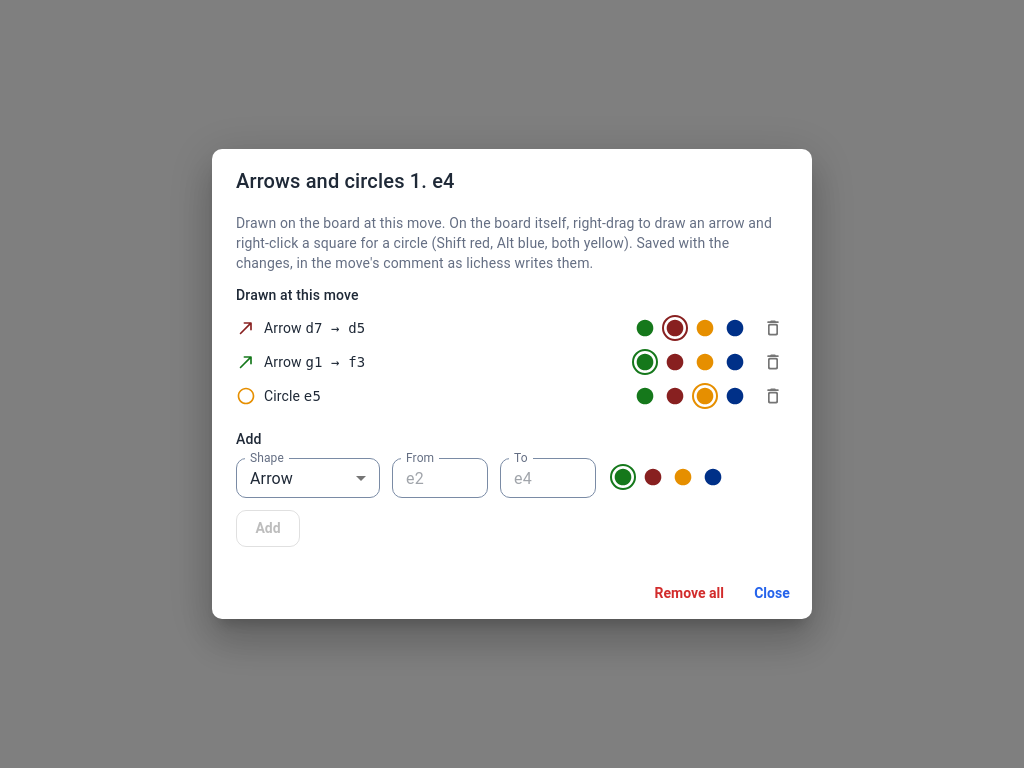
Test: ShapesDialog — the move's shapes › refuses a square that is not one
This screenshot has width=1024, height=768.
In the field with test id "shapes-dialog-from": (440, 478) [392,458,488,498], type "z9"
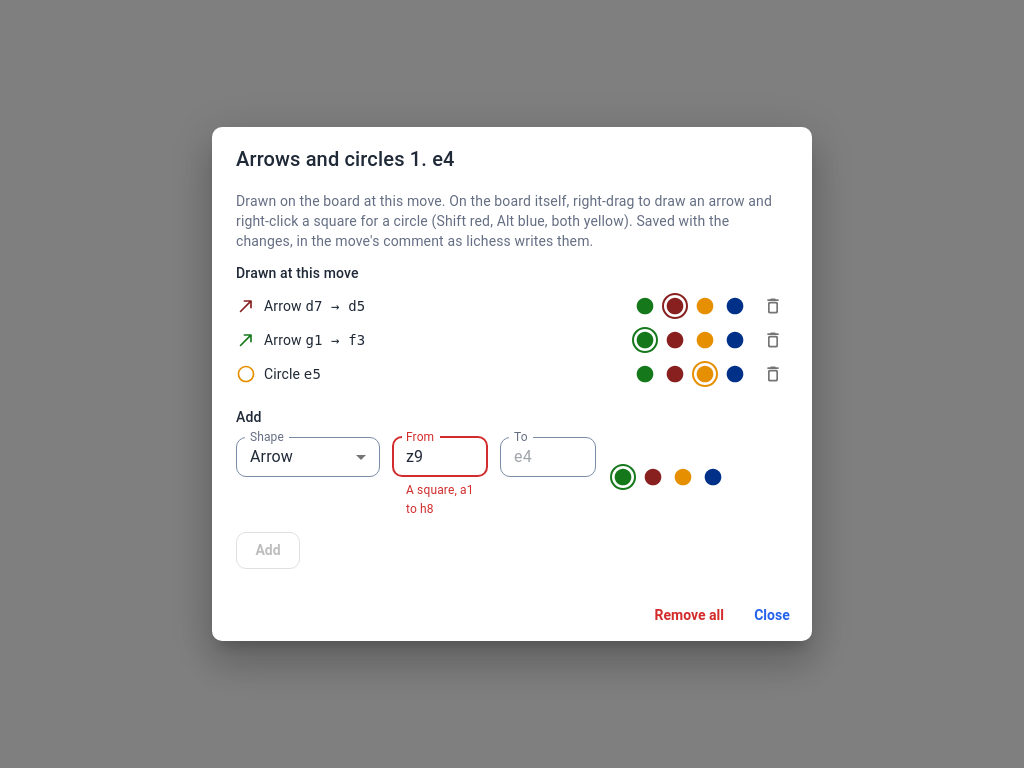
Expected: the button "Add" is disabled, [236,532,300,569]
Now the text "A square, a1 to h8" is shown, box [406,481,474,520]
